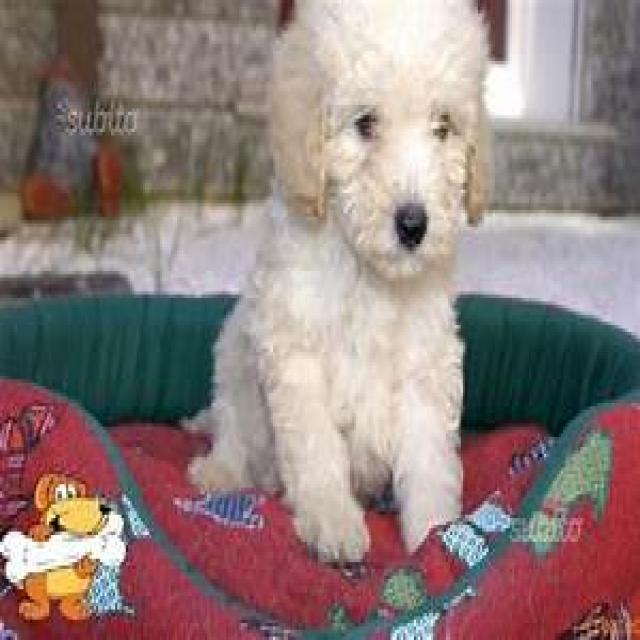animal: (209, 0, 545, 640)
